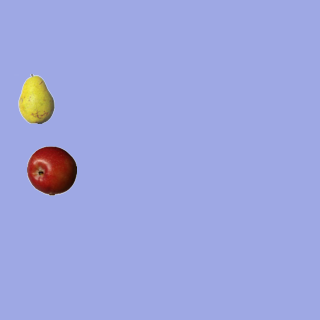Apple Braeburn: (26, 145, 76, 195)
Pear Monster: (11, 73, 61, 123)
